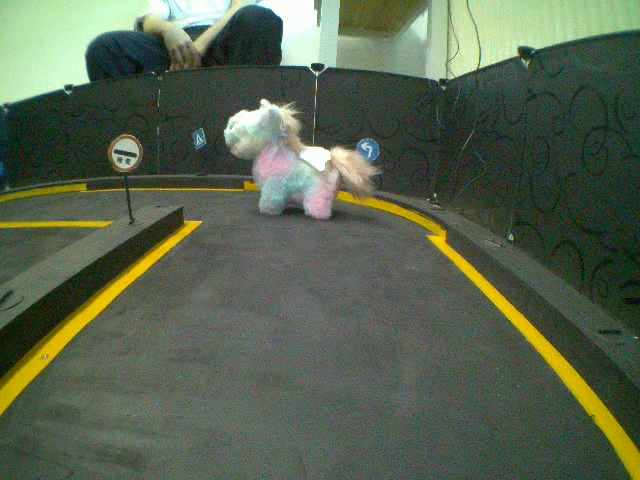unicorn: (217, 100, 381, 222)
